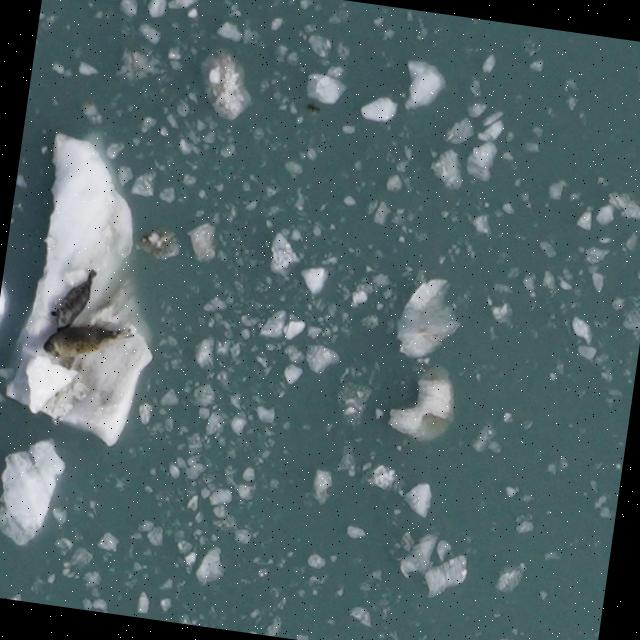seal: (36, 312, 138, 375), (44, 261, 101, 340)
